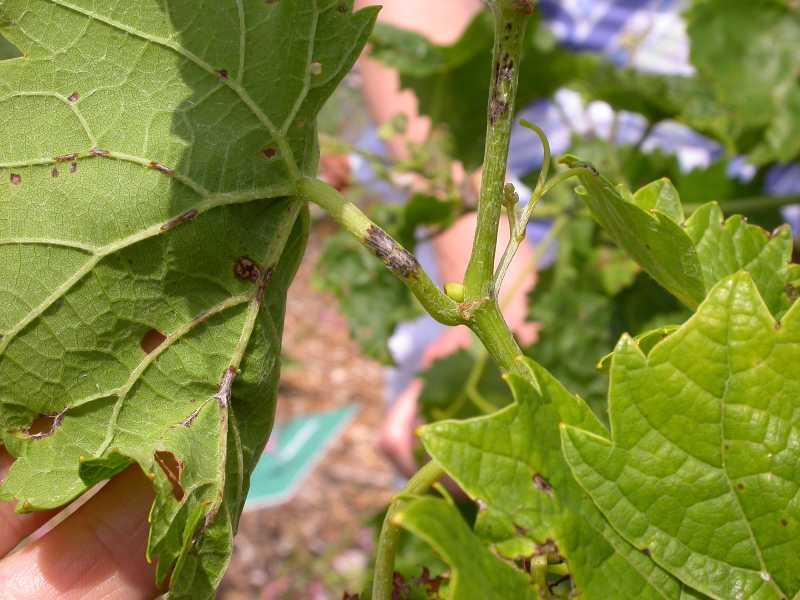grape leaf: (1, 3, 349, 594), (552, 266, 800, 594)
